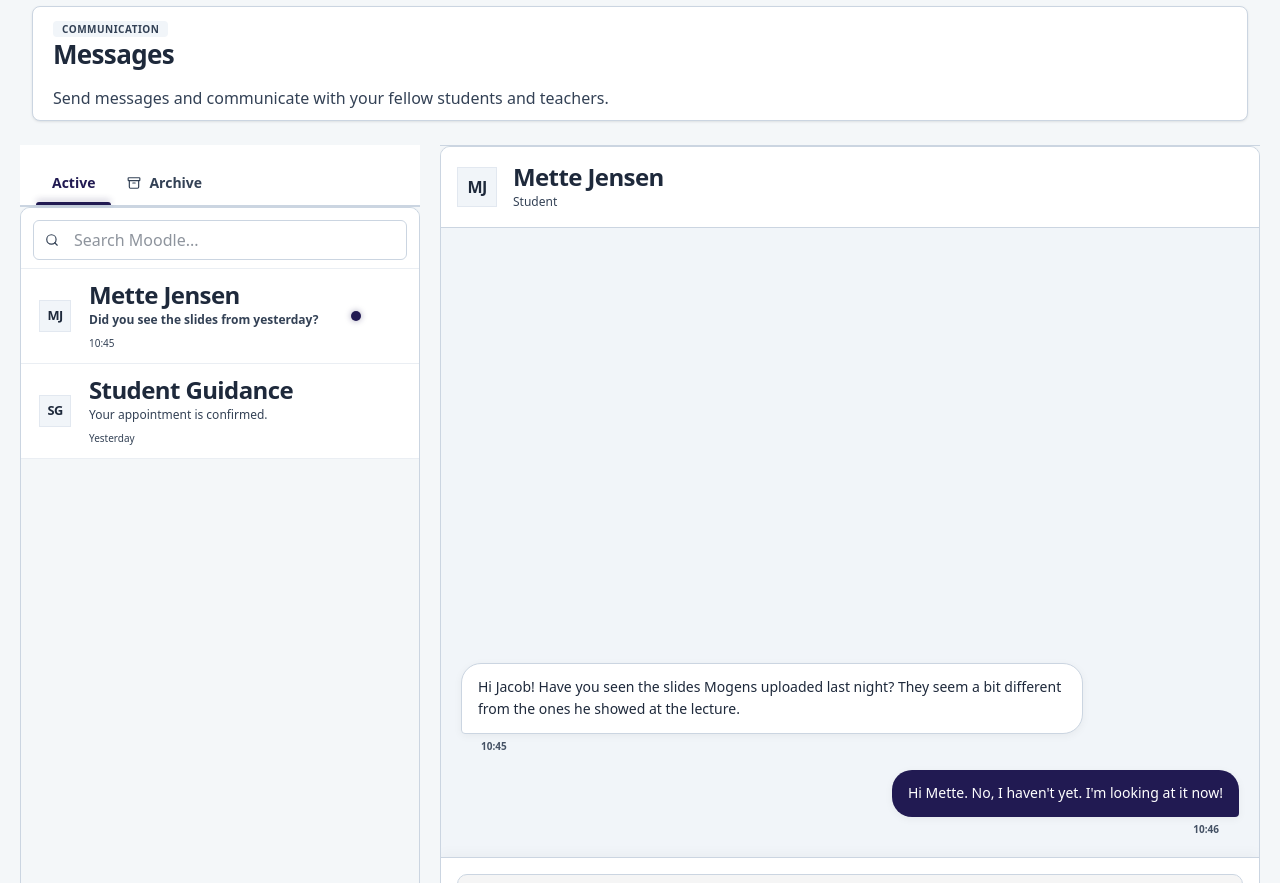
Test: Messages Page › shows empty chat panel in English in archive view
The width and height of the screenshot is (1280, 883).
Click the tab with test id "tab-archive" at (165, 183), box [112,161,218,205]
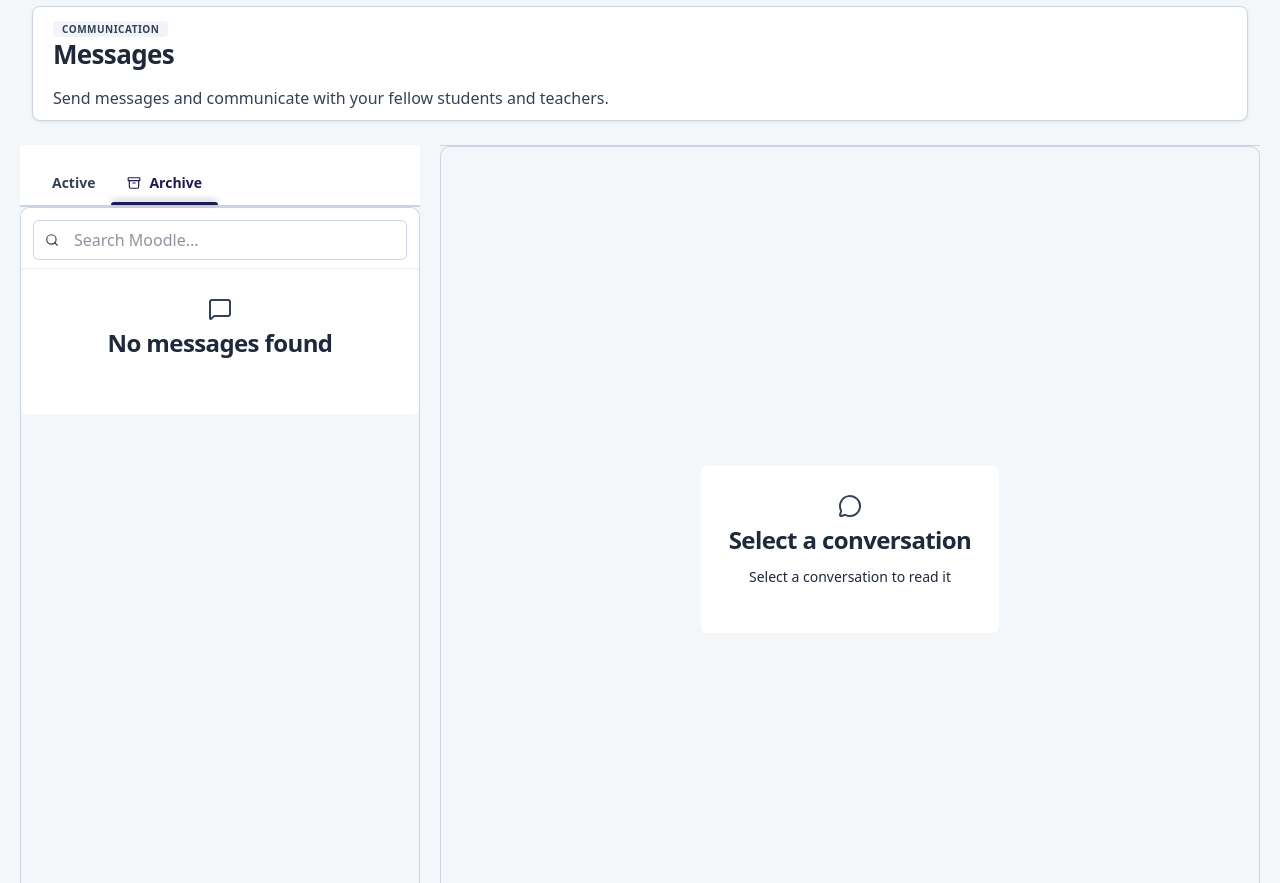
Now the heading "Select a conversation" is shown, box [729,526,971,554]
Now the text "Select a conversation to read it" is shown, box [749,566,951,589]
